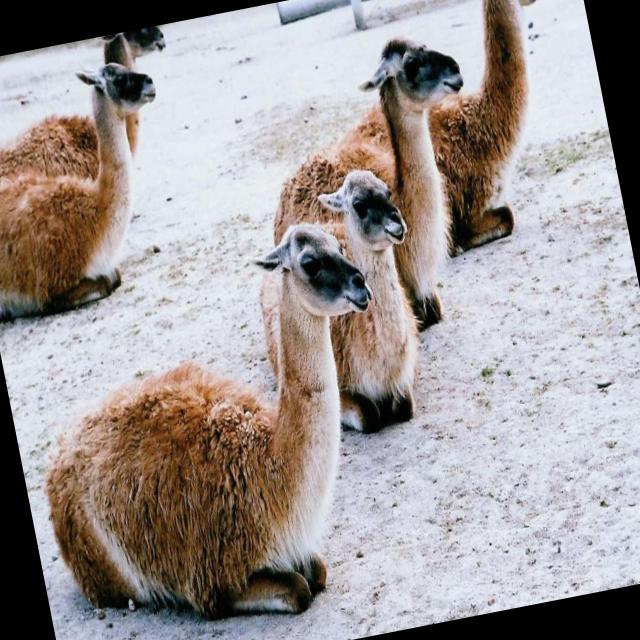alpaca: (6, 214, 429, 640), (242, 26, 508, 353), (304, 0, 600, 268), (237, 166, 446, 452), (0, 54, 193, 322), (0, 25, 200, 266)
